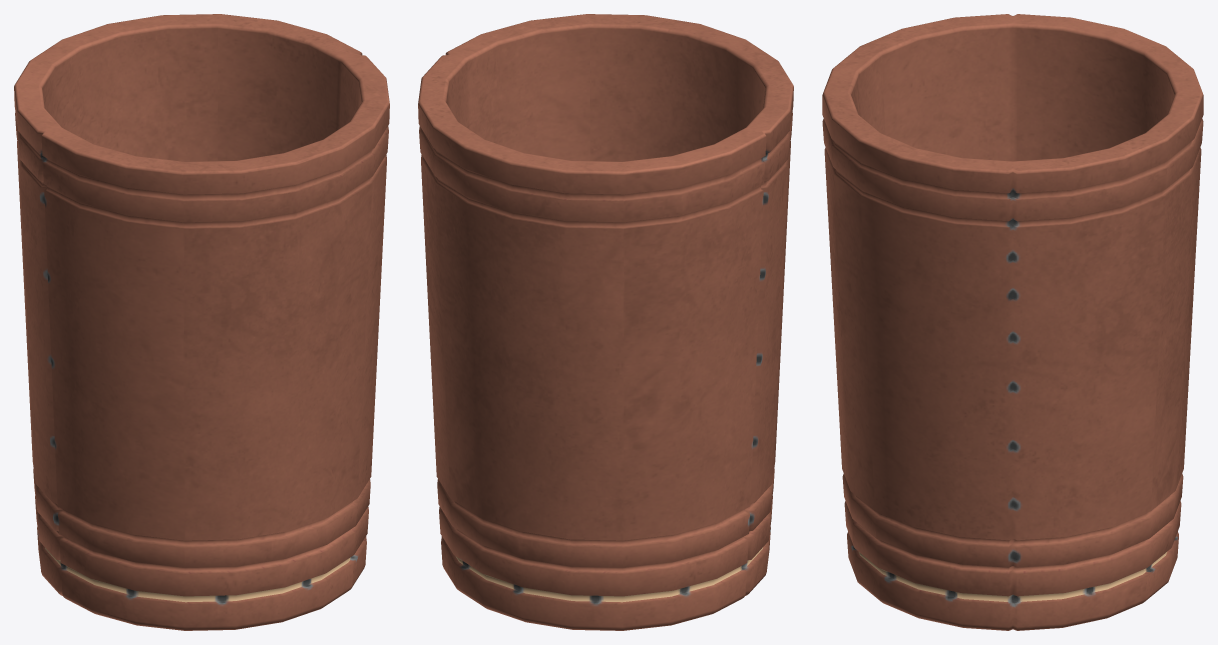
File: Cup.fbx
3 renders of one model, left to right at view 1: azimuth 30°, elevation 25°; view 2: azimuth 150°, elevation 25°; view 3: azimuth 270°, elevation 25°, orthographic.
Parts seen in each view (by area): view 1: Cup; view 2: Cup; view 3: Cup.
Part boxes in pixels (x1,y1,x2,y2): Cup: [14, 14, 389, 630]; Cup: [418, 14, 793, 630]; Cup: [822, 14, 1203, 630].
Bounding box in the file's own units: 3.44 × 4.76 × 3.49.
